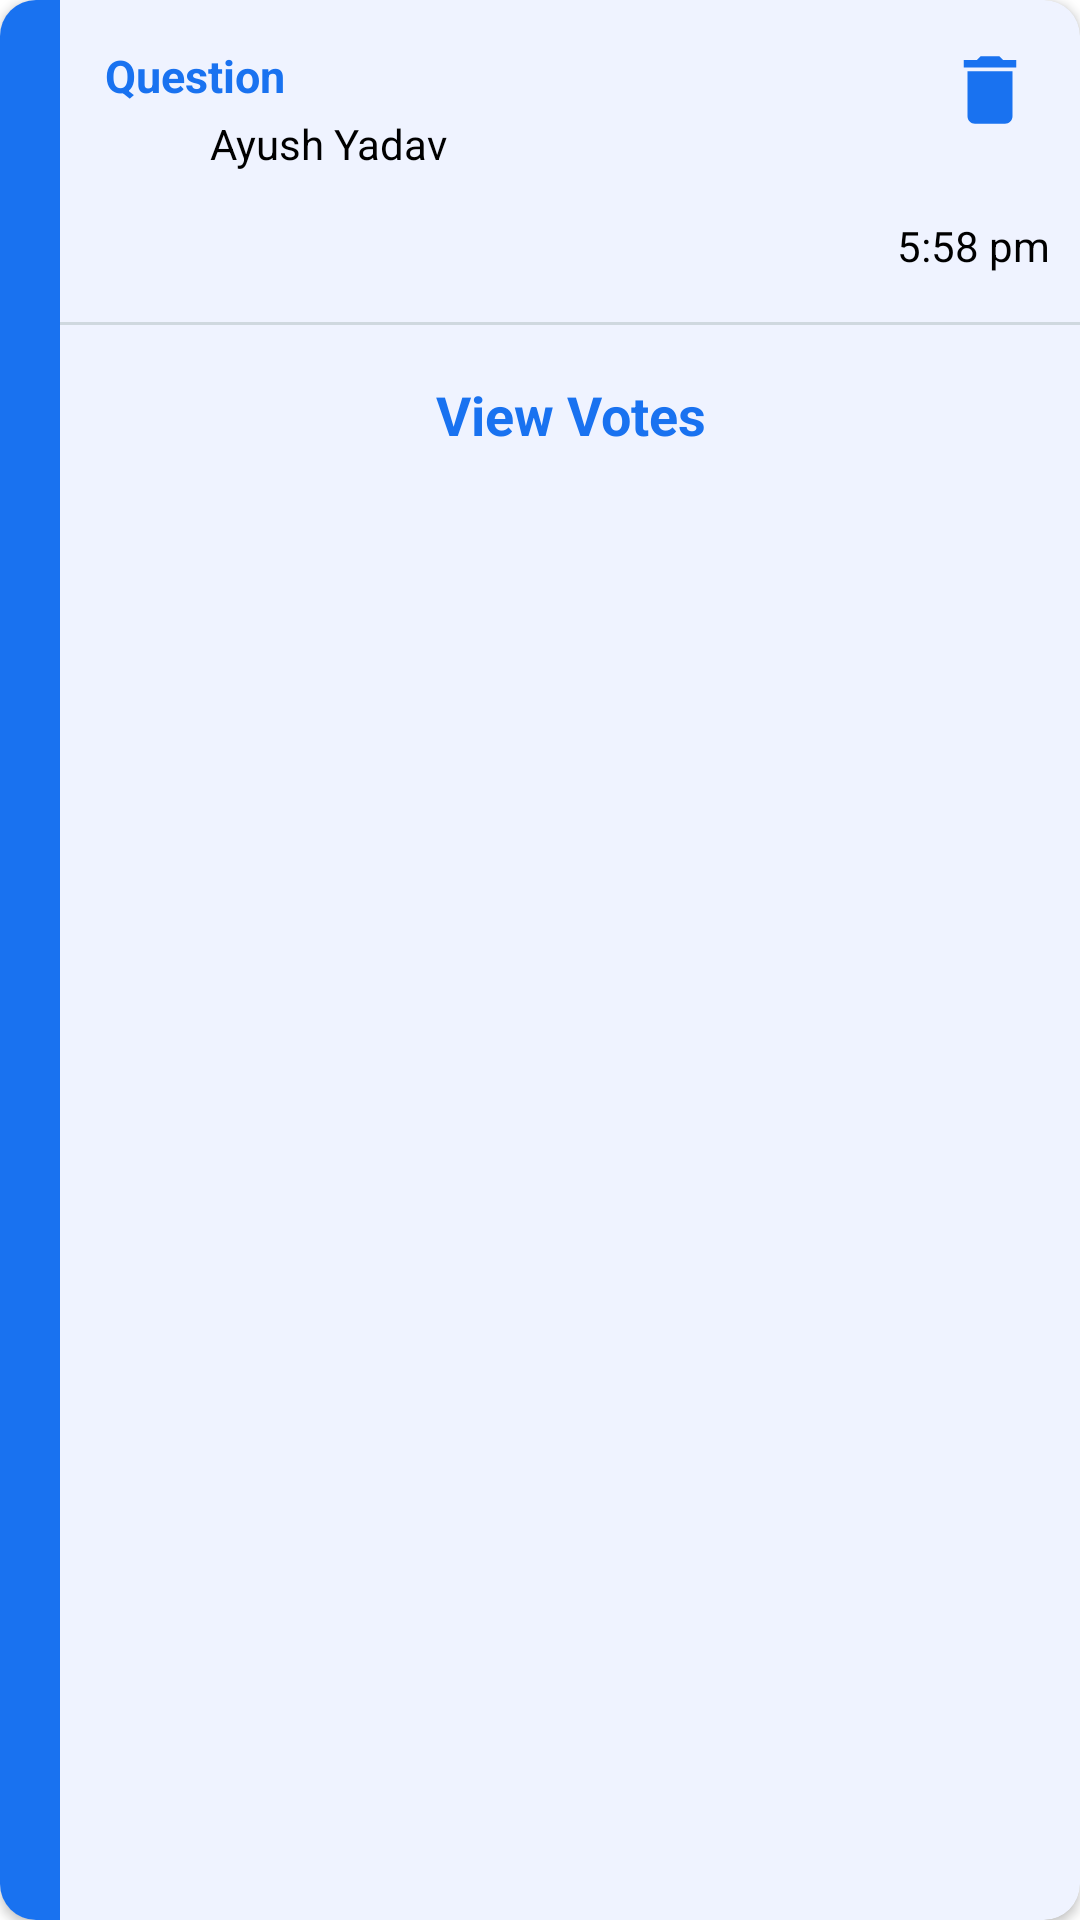

Where to tap for icons on this 1080px×1920px app screen, as [x,y]:
delete: [990,90]
